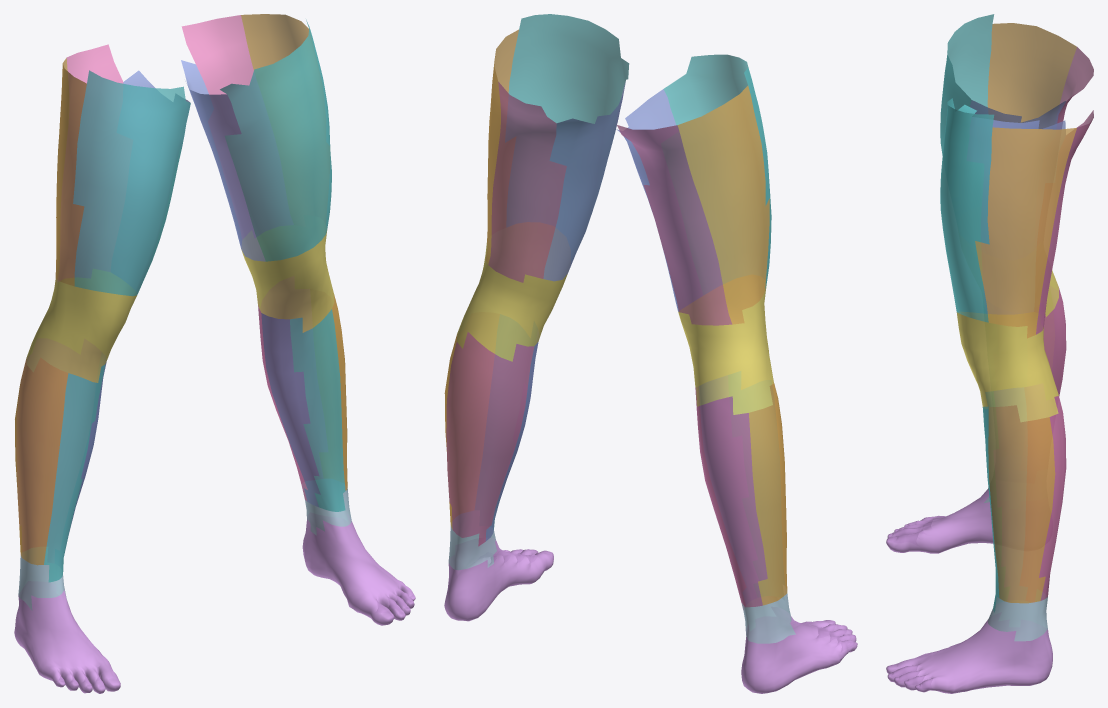
The model's file is neutro_body_v1_detailed_legs_interaction.glb.
The picture shows the model from 3 angles, left to right: view 1: azimuth 30°, elevation 25°; view 2: azimuth 150°, elevation 25°; view 3: azimuth 270°, elevation 25°; orthographic projection. The views are drawn at different scales.
Visible parts, largest first — view 1: zone_right_thigh_front, zone_left_thigh_front, zone_right_lower_leg_back, zone_right_thigh_back, zone_left_thigh_back, zone_left_thigh_outer, zone_right_thigh_inner, zone_left_lower_leg_back, zone_right_lower_leg_outer, zone_right_knee, zone_left_knee, zone_right_foot (+10 smaller); view 2: zone_left_thigh_front, zone_right_thigh_front, zone_right_thigh_outer, zone_left_lower_leg_back, zone_left_thigh_back, zone_left_knee, zone_right_thigh_back, zone_right_knee, zone_right_lower_leg_back, zone_left_lower_leg_outer, zone_right_lower_leg_front, zone_right_thigh_inner (+10 smaller); view 3: zone_left_thigh_outer, zone_left_thigh_inner, zone_left_lower_leg_outer, zone_left_thigh_front, zone_left_foot, zone_left_knee, zone_right_thigh_outer, zone_left_lower_leg_back, zone_left_lower_leg_inner, zone_right_thigh_front, zone_right_foot, zone_left_thigh_back (+7 smaller).
Boxes of the visible parts, <box> form: zone_right_thigh_front: <box>73,70,190,296</box>; zone_left_thigh_front: <box>220,19,331,261</box>; zone_right_lower_leg_back: <box>17,339,100,562</box>; zone_right_thigh_back: <box>57,44,132,281</box>; zone_left_thigh_back: <box>181,15,293,238</box>; zone_left_thigh_outer: <box>241,14,329,225</box>; zone_right_thigh_inner: <box>111,70,190,291</box>; zone_left_lower_leg_back: <box>258,276,327,501</box>; zone_right_lower_leg_outer: <box>15,357,68,565</box>; zone_right_knee: <box>26,269,136,382</box>; zone_left_knee: <box>241,215,334,332</box>; zone_right_foot: <box>14,581,120,693</box>; zone_left_thigh_front: <box>505,14,629,261</box>; zone_right_thigh_front: <box>661,54,771,294</box>; zone_right_thigh_outer: <box>677,85,769,324</box>; zone_left_lower_leg_back: <box>446,332,534,546</box>; zone_left_thigh_back: <box>488,82,566,282</box>; zone_left_knee: <box>457,222,570,361</box>; zone_right_thigh_back: <box>617,125,732,325</box>; zone_right_knee: <box>678,275,773,414</box>; zone_right_lower_leg_back: <box>695,387,767,609</box>; zone_left_lower_leg_outer: <box>444,312,499,529</box>; zone_right_lower_leg_front: <box>728,371,784,598</box>; zone_right_thigh_inner: <box>616,89,702,311</box>; zone_left_thigh_outer: <box>975,127,1076,338</box>; zone_left_thigh_inner: <box>967,117,1065,313</box>; zone_left_lower_leg_outer: <box>988,405,1055,603</box>; zone_left_thigh_front: <box>940,98,994,322</box>; zone_left_foot: <box>886,613,1052,693</box>; zone_left_knee: <box>956,312,1058,422</box>; zone_right_thigh_outer: <box>987,23,1076,128</box>; zone_left_lower_leg_back: <box>1020,384,1066,602</box>; zone_left_lower_leg_inner: <box>994,388,1027,599</box>; zone_right_thigh_front: <box>940,14,994,155</box>; zone_right_foot: <box>886,489,993,553</box>; zone_left_thigh_back: <box>1034,110,1093,334</box>.
Size of the model in its own units: 0.5873 by 0.9002 by 0.3081.
